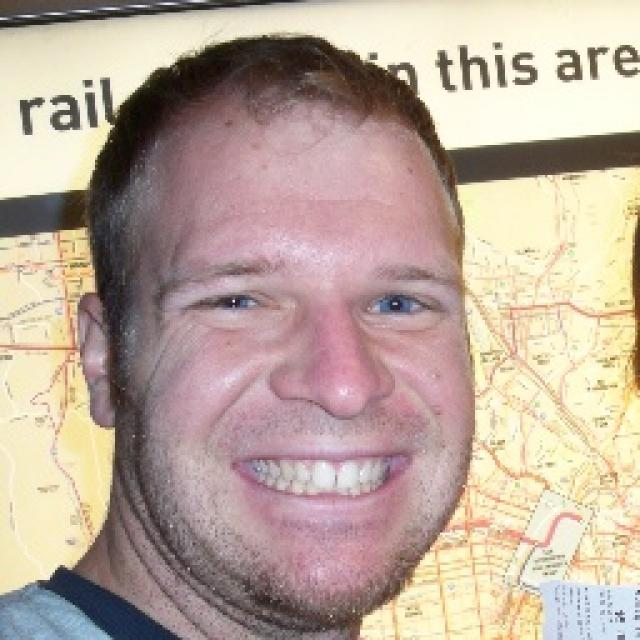earlobe: (87, 376, 120, 429)
eye: (363, 290, 439, 323), (193, 290, 269, 320)
nose: (280, 394, 393, 438)
wholeear: (76, 292, 120, 430)
